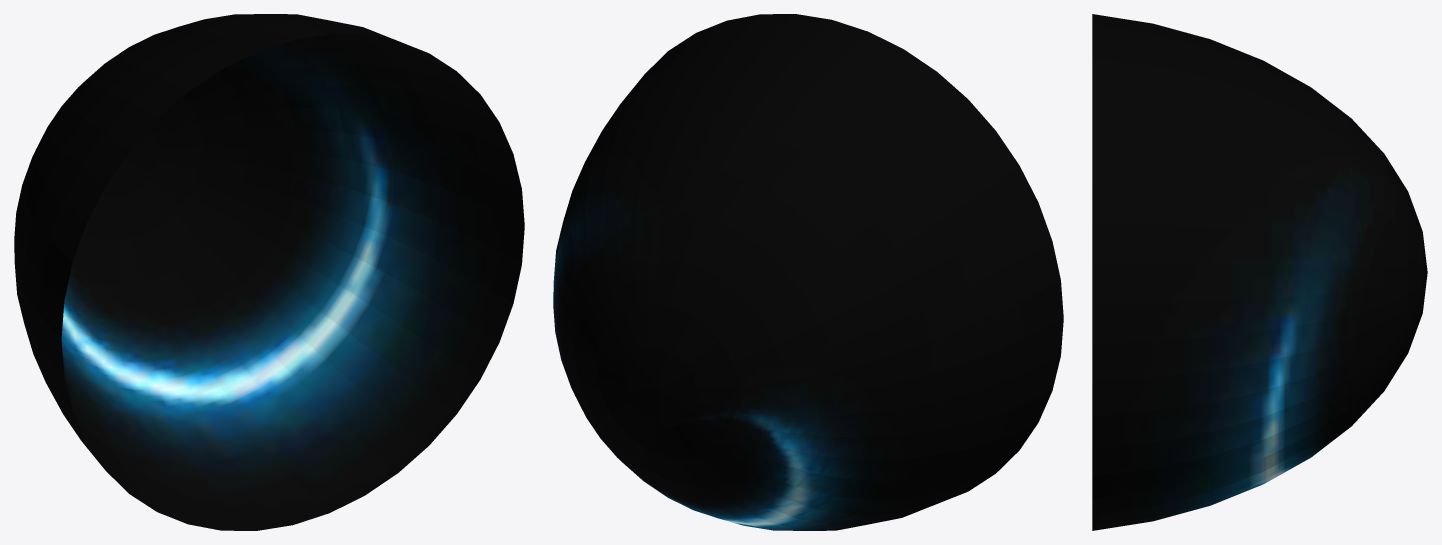
The model's file is 0395_qibo.glb.
3 renders of one model, left to right at view 1: azimuth 30°, elevation 25°; view 2: azimuth 150°, elevation 25°; view 3: azimuth 270°, elevation 25°, orthographic. The views are drawn at different scales.
Bounding box in the file's own units: 2.2 × 2.2 × 1.43.
1 material, 1 textured.
